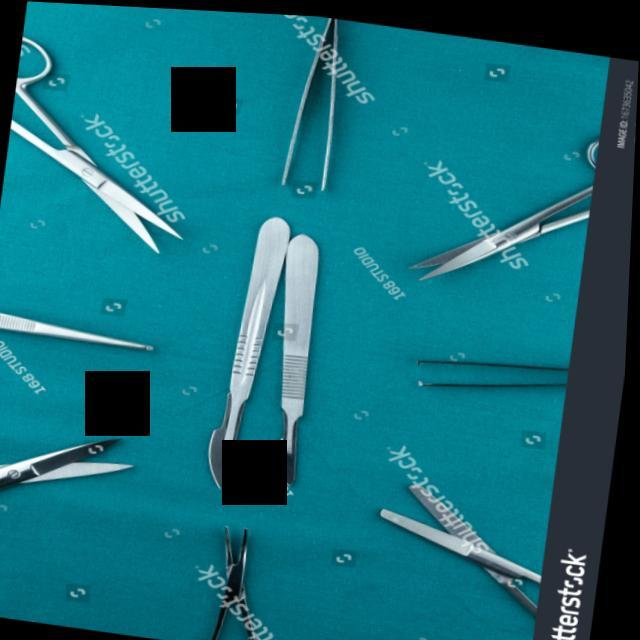Knife handle: (219, 202, 295, 450)
Surgical blade: (266, 208, 331, 450), (201, 386, 253, 488), (265, 407, 314, 487)
